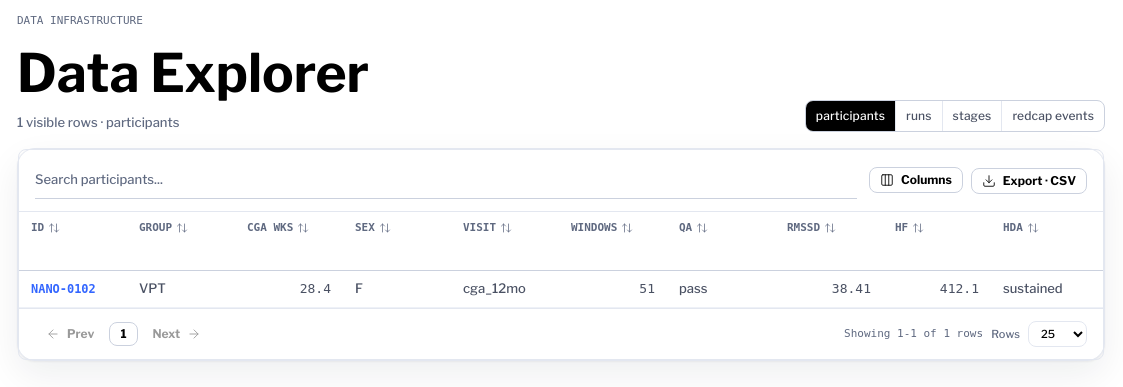
it: DataExplorer › renders participants and switches virtual tables
Expected: the text "Data Explorer" is shown, [17,34,369,113]
Expected: the button "NANO-0102" is shown, [31,281,96,299]
Click the radio button labelled "runs": (919, 116) [896,102,943,132]
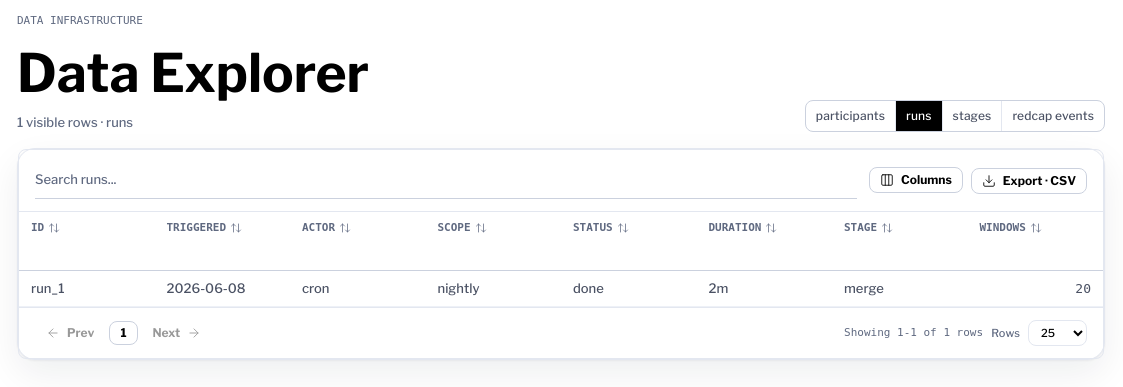
Result: the text "run_1" is shown at [19,270,154,307]
